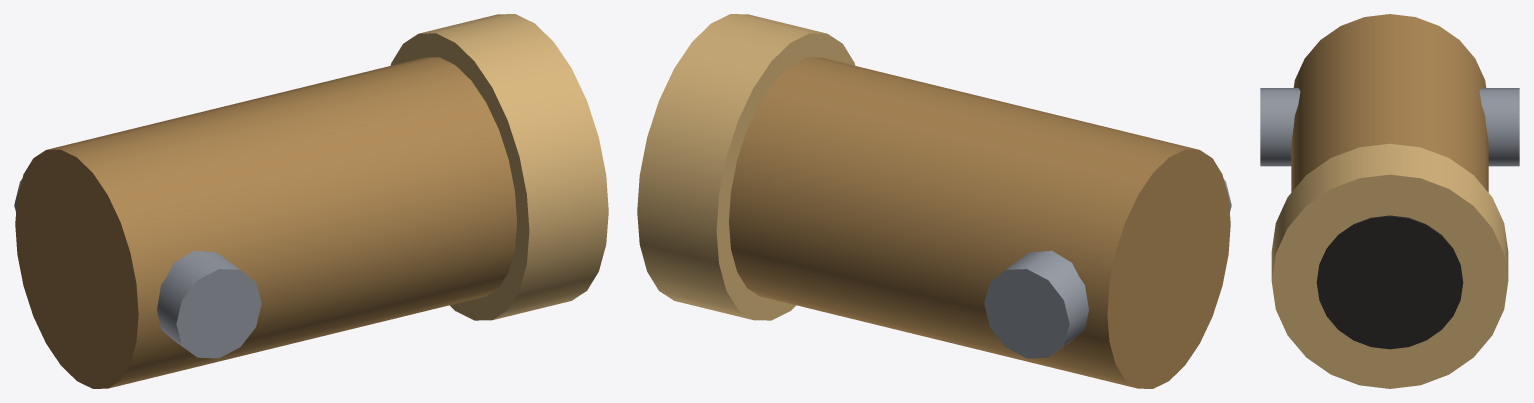
File: dirt_tube_l.glb
The picture shows the model from 3 angles, left to right: view 1: azimuth 30°, elevation 25°; view 2: azimuth 150°, elevation 25°; view 3: azimuth 270°, elevation 25°; orthographic projection. The views are drawn at different scales.
Visible parts, largest first — view 1: tube, rim, trunnion; view 2: tube, rim, trunnion; view 3: rim, tube, bore, trunnion.
Boxes of the visible parts, x1,y1,x2,y2 form: tube: (15, 57, 516, 388); rim: (390, 14, 608, 320); trunnion: (14, 179, 261, 358); tube: (729, 57, 1230, 388); rim: (637, 14, 855, 320); trunnion: (984, 179, 1231, 358); rim: (1271, 143, 1508, 388); tube: (1291, 14, 1488, 192); bore: (1316, 215, 1463, 349); trunnion: (1260, 88, 1519, 166).
Bounding box in the file's own units: 7.55 × 4.2 × 4.6.
